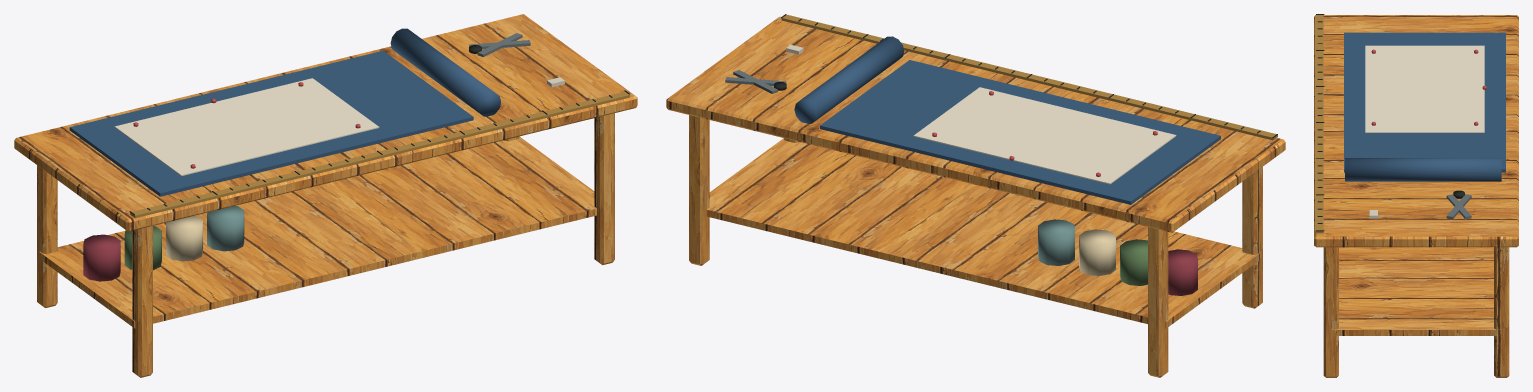
3 renders of one model, left to right at view 1: azimuth 30°, elevation 25°; view 2: azimuth 150°, elevation 25°; view 3: azimuth 270°, elevation 25°, orthographic. The views are drawn at different scales.
Visible parts, largest first — view 1: shop_oak, shop_cloth_1, shop_paper, shop_brass, shop_cloth_0, shop_cloth_9, shop_cloth_6, shop_cloth_3, shop_steel; view 2: shop_oak, shop_cloth_1, shop_paper, shop_brass, shop_cloth_6, shop_cloth_9, shop_cloth_0, shop_cloth_3, shop_steel; view 3: shop_oak, shop_cloth_1, shop_paper, shop_brass, shop_steel, shop_ink.
Part boxes in pixels (bbox=[...]): shop_oak: bbox=[14, 14, 637, 377]; shop_cloth_1: bbox=[69, 28, 500, 196]; shop_paper: bbox=[114, 78, 379, 175]; shop_brass: bbox=[130, 91, 629, 218]; shop_cloth_0: bbox=[83, 234, 120, 281]; shop_cloth_9: bbox=[207, 205, 244, 251]; shop_cloth_6: bbox=[166, 216, 202, 261]; shop_cloth_3: bbox=[124, 226, 161, 270]; shop_steel: bbox=[469, 33, 530, 57]; shop_oak: bbox=[666, 16, 1285, 377]; shop_cloth_1: bbox=[794, 36, 1220, 204]; shop_paper: bbox=[913, 87, 1176, 184]; shop_brass: bbox=[781, 14, 1277, 140]; shop_cloth_6: bbox=[1079, 229, 1115, 275]; shop_cloth_9: bbox=[1038, 219, 1074, 265]; shop_cloth_0: bbox=[1168, 249, 1197, 295]; shop_cloth_3: bbox=[1120, 239, 1147, 285]; shop_steel: bbox=[725, 70, 786, 93]; shop_oak: bbox=[1314, 15, 1518, 377]; shop_cloth_1: bbox=[1344, 32, 1505, 181]; shop_paper: bbox=[1365, 45, 1484, 132]; shop_brass: bbox=[1315, 15, 1323, 233]; shop_steel: bbox=[1446, 194, 1471, 219]; shop_ink: bbox=[1316, 14, 1464, 231].
Size of the model in its own units: 3.1 by 1.1 by 1.2.
Materials: 12 (1 with a texture image).
